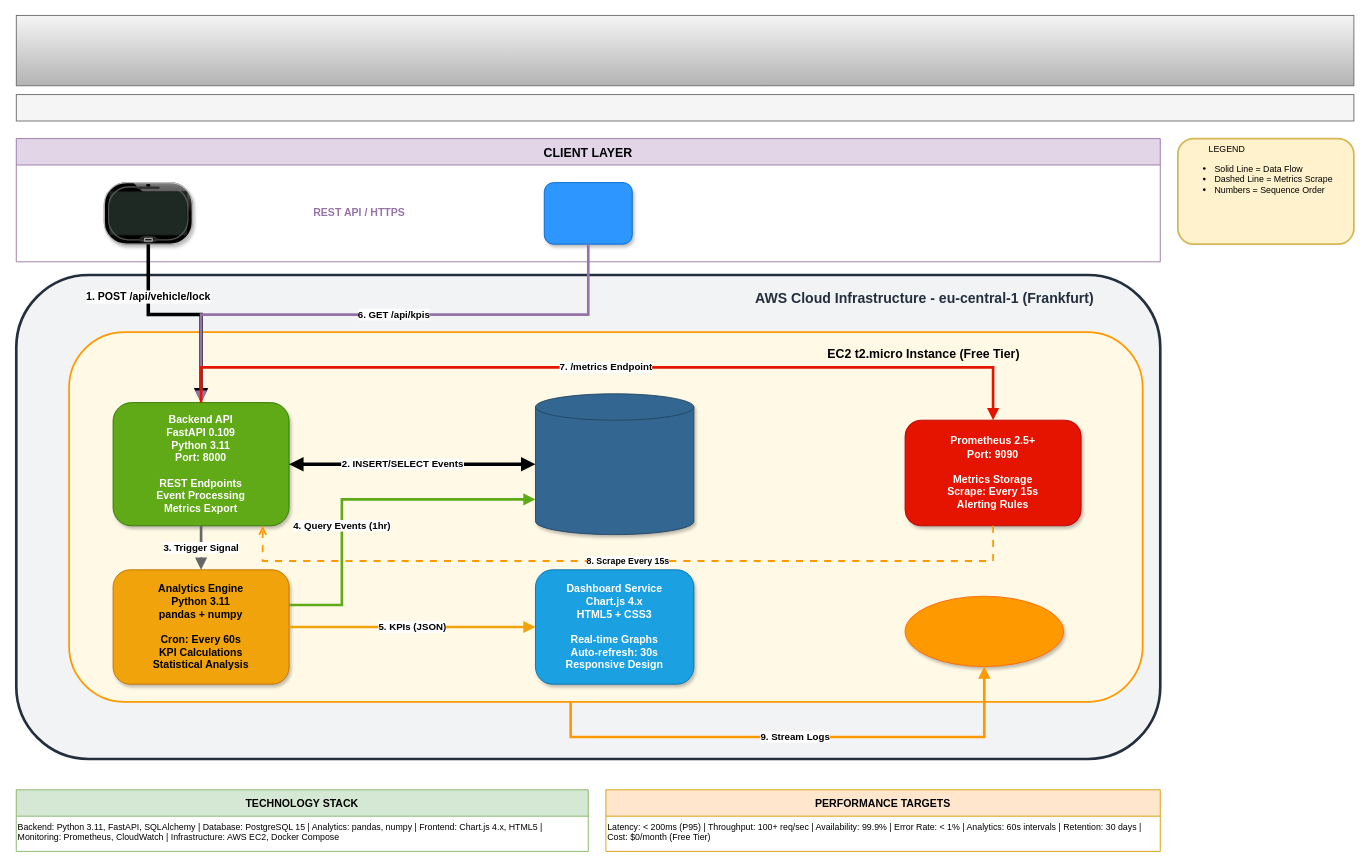
This 1370x867 diagram has some shape labels left out. The shapes that lost their labels are listed below. From the top down, each one's centre as x and y in pixels, then its label:
At point 684,50: "VehicleConnect Cloud Platform Real-Time Monitoring & Analytics Architecture".
At point 149,214: "Vehicle Apps iOS/Android BMW/Tesla/Audi".
At point 589,214: "Web Dashboard Real-time UI".
At point 615,465: "PostgreSQL 15 Port: 5432 api_events kpi_snapshots 1M records/day".
At point 985,632: "CloudWatch Logs Log Aggregation 7-day Retention".
